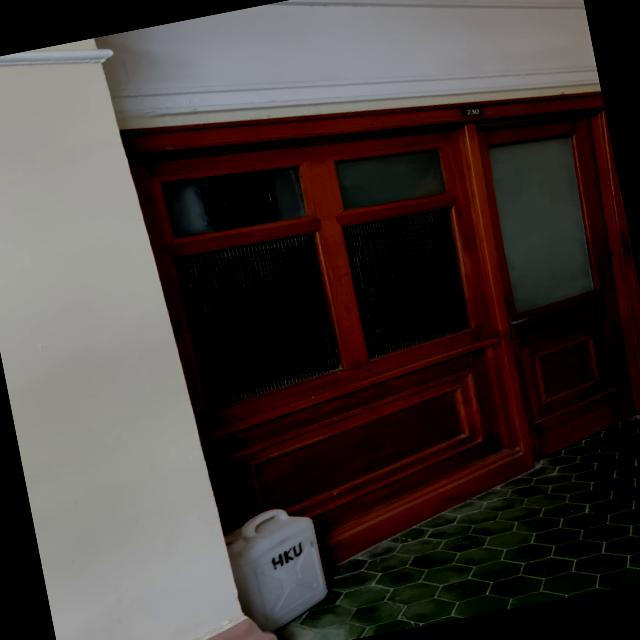room230: (456, 102, 488, 120)
